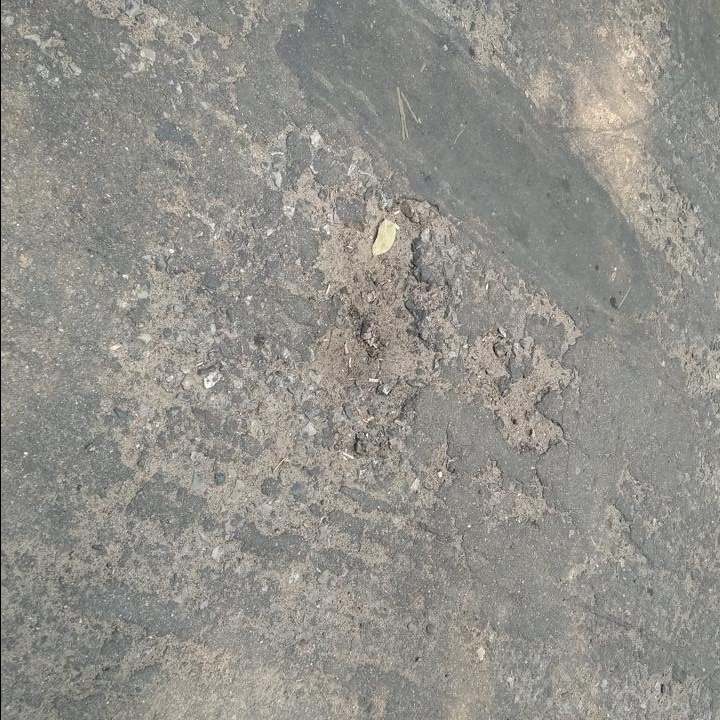pothole: (307, 187, 449, 437), (463, 296, 580, 457)
